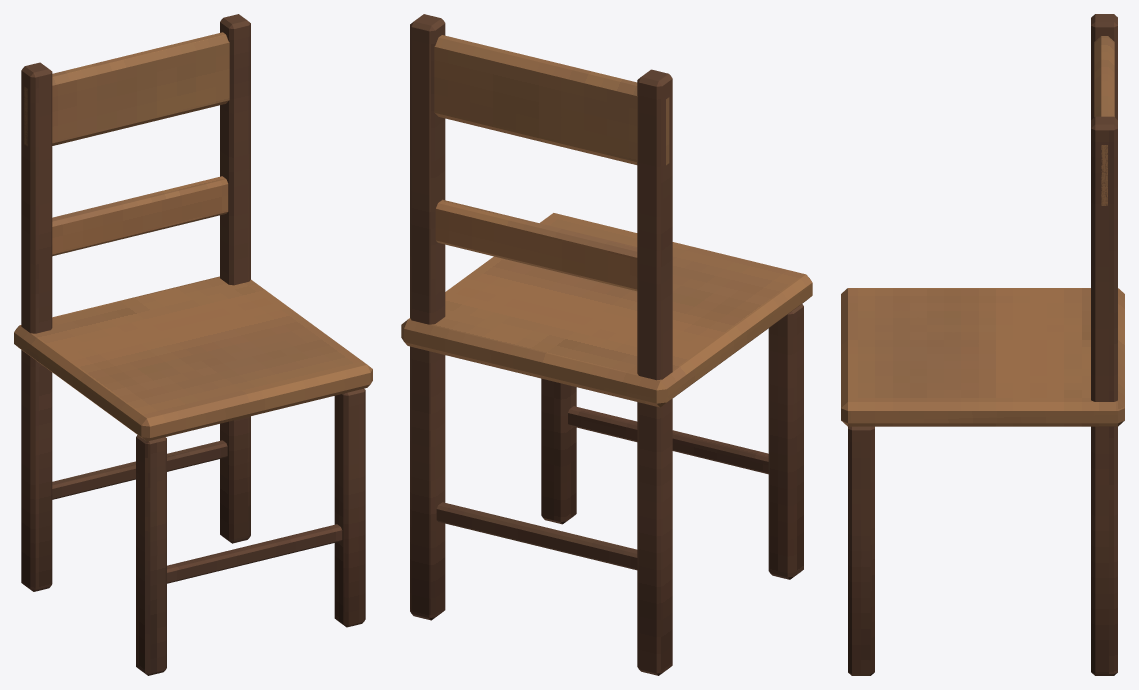
Rendered from chair_wood.glb.
3 renders of one model, left to right at view 1: azimuth 30°, elevation 25°; view 2: azimuth 150°, elevation 25°; view 3: azimuth 270°, elevation 25°, orthographic. The views are drawn at different scales.
Visible parts, largest first — view 1: chair_wood; view 2: chair_wood; view 3: chair_wood.
Boxes of the visible parts, <box> form: chair_wood: <box>14,14,372,675</box>; chair_wood: <box>401,14,812,675</box>; chair_wood: <box>841,14,1124,675</box>.
Bounding box in the file's own units: 0.42 × 0.9 × 0.42.
Materials: 2 (2 with a texture image).
